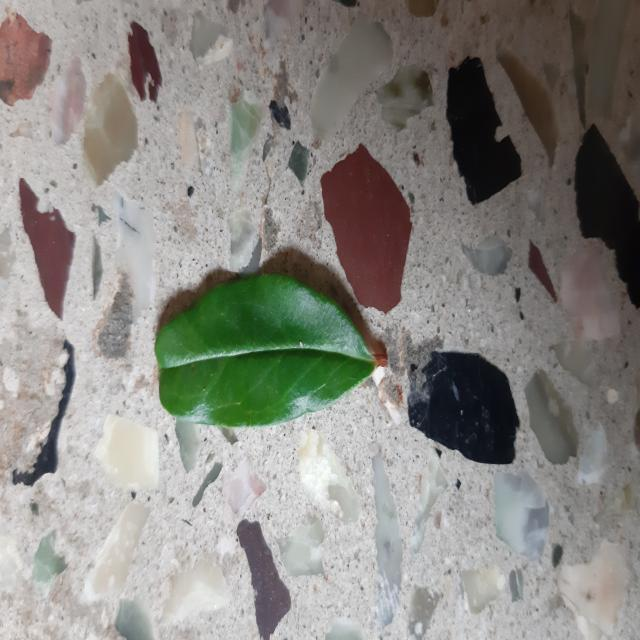leaf: (153, 271, 377, 428)
